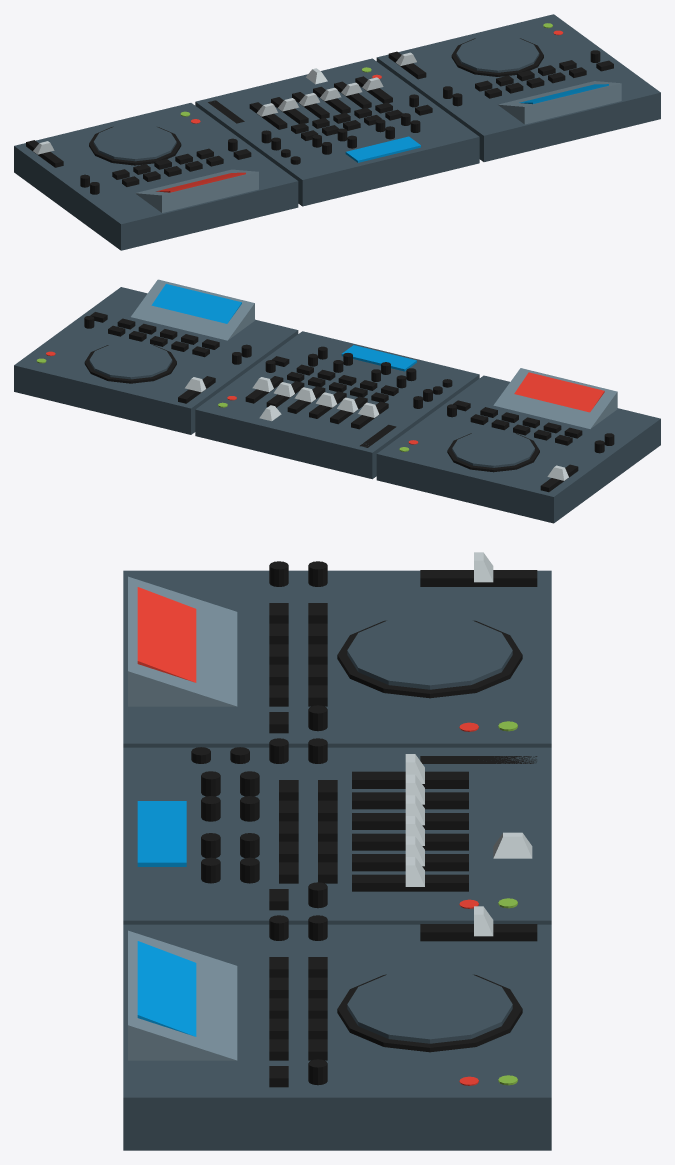
The model's file is dj-booth.glb.
3 views of the same model, one above another, from view 1: azimuth 30°, elevation 25°; view 2: azimuth 150°, elevation 25°; view 3: azimuth 270°, elevation 25° (orthographic). The views are drawn at different scales.
Parts seen in each view (by area): view 1: Node; view 2: Node; view 3: Node.
Boxes of the visible parts, x1,y1,x2,y2 form: Node: [14, 14, 660, 250]; Node: [14, 279, 660, 523]; Node: [123, 552, 551, 1150].
Size of the model in its own units: 1.28 by 0.1 by 0.44.
